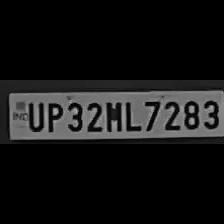2: (83, 98, 103, 132), (160, 97, 180, 131)
3: (63, 98, 83, 132), (200, 97, 220, 129)
7: (140, 97, 160, 131)
8: (180, 97, 200, 130)
L: (122, 97, 140, 132)
M: (104, 98, 122, 132)
P: (43, 100, 62, 132)
U: (23, 99, 43, 131)
